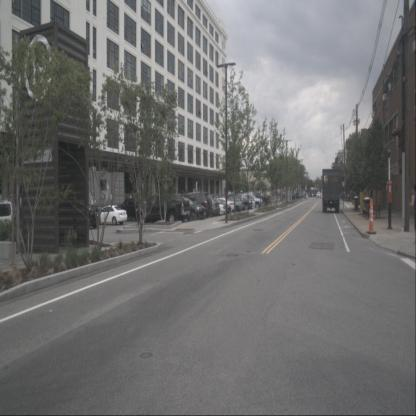human-pedestrian-adult: (410, 185, 416, 243)
movable_object-trafficcone: (367, 198, 376, 234)
vehicle-car: (167, 196, 206, 222), (178, 192, 213, 218), (69, 204, 98, 228), (94, 205, 127, 226), (117, 198, 146, 221), (195, 195, 220, 217), (208, 198, 236, 213), (230, 193, 252, 210), (222, 196, 245, 212), (240, 194, 263, 209), (292, 192, 301, 199), (316, 191, 321, 199)
vehicle-truck: (136, 194, 190, 223), (322, 169, 340, 213), (246, 192, 270, 207)
